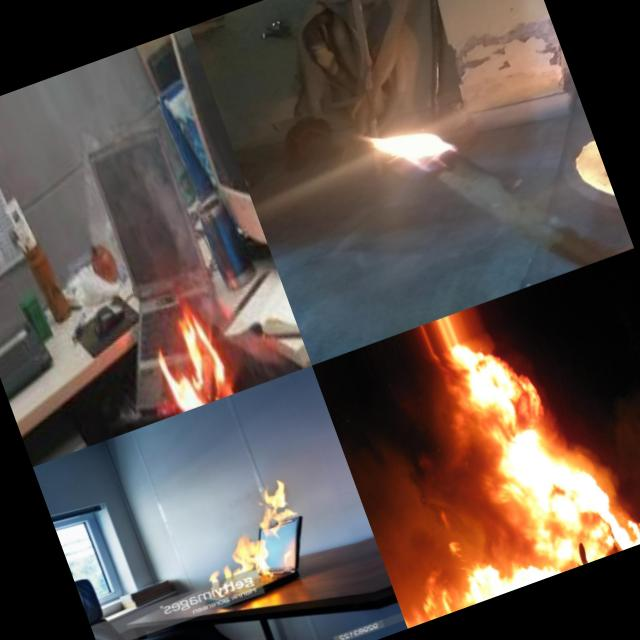fire: (353, 382, 640, 628), (350, 80, 488, 205), (145, 308, 236, 415), (198, 529, 274, 583), (244, 474, 306, 536)
smoke: (115, 111, 232, 314)
